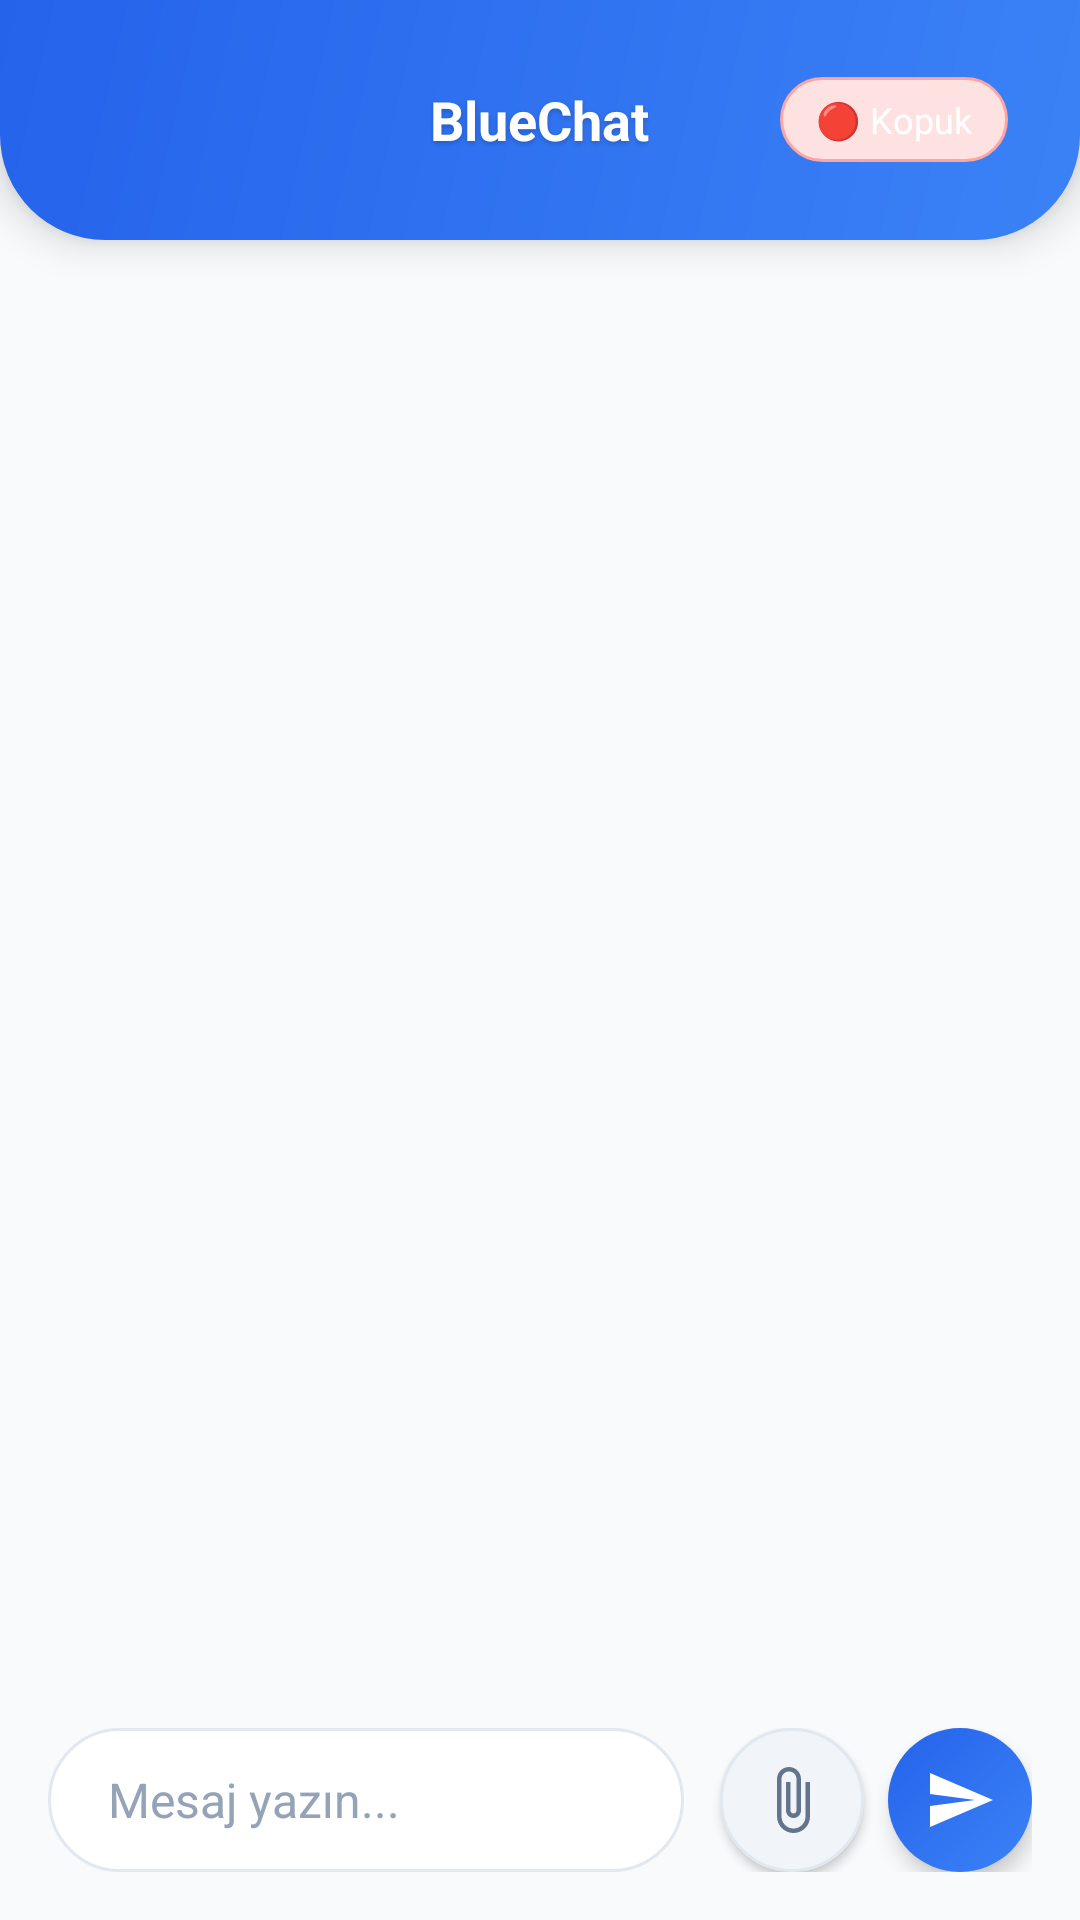

Icons on this 1080 x 1920 Android screen, each with the point to tap as (x,y):
Dosya Ekle: (794,1819)
Gönder: (960,1800)
